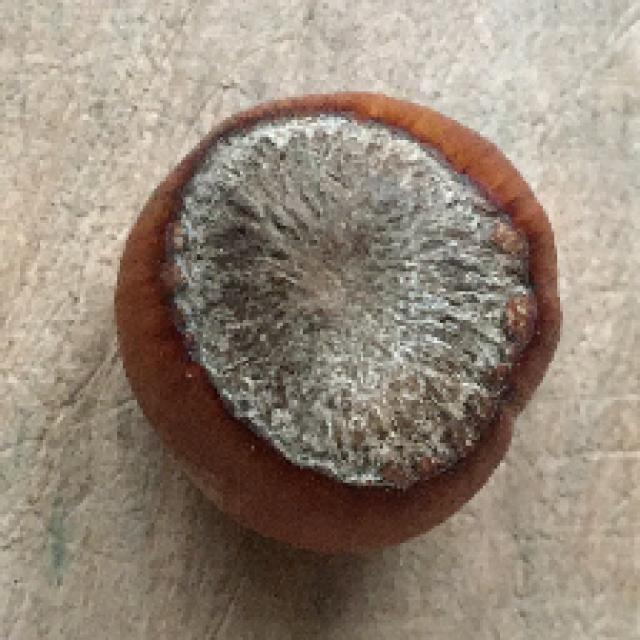qualityHazelnut: (106, 71, 562, 557)
